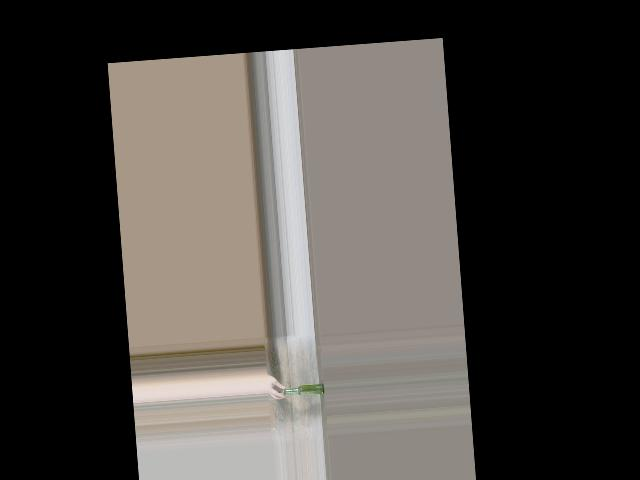beer: (282, 383, 324, 397)
